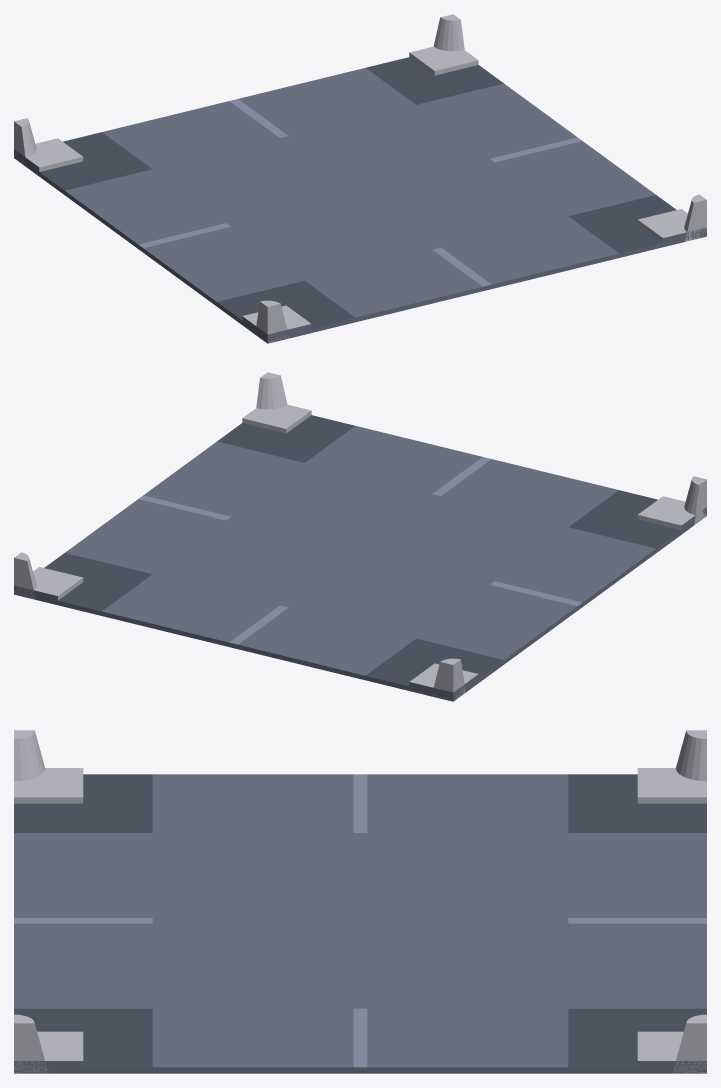
The model's file is road_crossroad.glb.
3 views of the same model, one above another, from view 1: azimuth 30°, elevation 25°; view 2: azimuth 150°, elevation 25°; view 3: azimuth 270°, elevation 25° (orthographic). The views are drawn at different scales.
Parts seen in each view (by area): view 1: road_crossroad_9dd487, road_crossroad_f255ba, road_crossroad_a55152, road_crossroad_de67db, road_crossroad_b0c67d; view 2: road_crossroad_9dd487, road_crossroad_f255ba, road_crossroad_a55152, road_crossroad_de67db, road_crossroad_b0c67d; view 3: road_crossroad_9dd487, road_crossroad_f255ba, road_crossroad_a55152, road_crossroad_de67db, road_crossroad_b0c67d.
Boxes of the visible parts, x1,y1,x2,y2 form: road_crossroad_9dd487: (14, 68, 706, 343); road_crossroad_f255ba: (39, 57, 676, 328); road_crossroad_a55152: (26, 46, 687, 329); road_crossroad_de67db: (14, 14, 706, 342); road_crossroad_b0c67d: (138, 99, 581, 286); road_crossroad_9dd487: (14, 426, 706, 701); road_crossroad_f255ba: (44, 415, 681, 686); road_crossroad_a55152: (33, 404, 694, 687); road_crossroad_de67db: (14, 372, 706, 701); road_crossroad_b0c67d: (139, 457, 582, 644); road_crossroad_9dd487: (14, 774, 706, 1073); road_crossroad_f255ba: (14, 774, 706, 1067); road_crossroad_a55152: (14, 768, 706, 1060); road_crossroad_de67db: (14, 730, 706, 1073); road_crossroad_b0c67d: (14, 774, 706, 1067).
Bounding box in the file's own units: 1 × 0.08 × 1.
